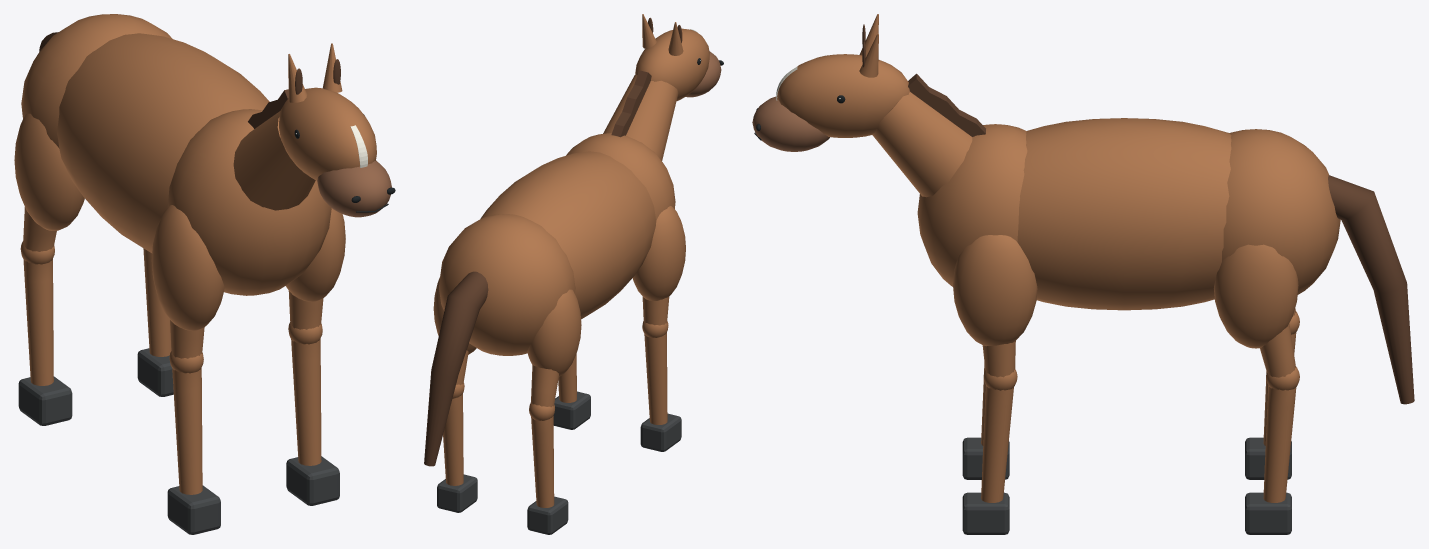
Rendered from animal_horse_chestnut.glb.
The picture shows the model from 3 angles, left to right: view 1: azimuth 30°, elevation 25°; view 2: azimuth 150°, elevation 25°; view 3: azimuth 270°, elevation 25°; orthographic projection. The views are drawn at different scales.
Visible parts, largest first — view 1: ChestnutHorse_Torso, ChestnutHorse_Chest, ChestnutHorse_Shoulder, ChestnutHorse_Head, ChestnutHorse_Rump, ChestnutHorse_Haunch, ChestnutHorse_Neck, ChestnutHorse_Foreleg.001, ChestnutHorse_Foreleg, ChestnutHorse_Hindleg, ChestnutHorse_Muzzle, ChestnutHorse_Shoulder.001 (+11 smaller); view 2: ChestnutHorse_Torso, ChestnutHorse_Rump, ChestnutHorse_Hanging_Hair_Tail, ChestnutHorse_Shoulder, ChestnutHorse_Chest, ChestnutHorse_Head, ChestnutHorse_Haunch, ChestnutHorse_Neck, ChestnutHorse_Hindleg, ChestnutHorse_Foreleg, ChestnutHorse_Hindleg.001, ChestnutHorse_Grounded_Hoof (+8 smaller); view 3: ChestnutHorse_Torso, ChestnutHorse_Rump, ChestnutHorse_Chest, ChestnutHorse_Head, ChestnutHorse_Shoulder.001, ChestnutHorse_Hanging_Hair_Tail, ChestnutHorse_Haunch.001, ChestnutHorse_Neck, ChestnutHorse_Hindleg.001, ChestnutHorse_Foreleg.001, ChestnutHorse_Muzzle, ChestnutHorse_Grounded_Hoof.002 (+4 smaller).
Boxes of the visible parts, x1=… form: ChestnutHorse_Torso: x1=57, y1=33, x2=269, y2=253; ChestnutHorse_Chest: x1=167, y1=109, x2=331, y2=295; ChestnutHorse_Shoulder: x1=151, y1=205, x2=224, y2=331; ChestnutHorse_Head: x1=279, y1=87, x2=376, y2=180; ChestnutHorse_Rump: x1=21, y1=14, x2=172, y2=148; ChestnutHorse_Haunch: x1=14, y1=113, x2=84, y2=230; ChestnutHorse_Neck: x1=233, y1=111, x2=315, y2=210; ChestnutHorse_Foreleg.001: x1=288, y1=290, x2=323, y2=465; ChestnutHorse_Foreleg: x1=170, y1=320, x2=204, y2=494; ChestnutHorse_Hindleg: x1=23, y1=207, x2=56, y2=385; ChestnutHorse_Muzzle: x1=317, y1=160, x2=391, y2=217; ChestnutHorse_Shoulder.001: x1=286, y1=208, x2=345, y2=302; ChestnutHorse_Torso: x1=480, y1=151, x2=656, y2=319; ChestnutHorse_Rump: x1=439, y1=214, x2=575, y2=355; ChestnutHorse_Hanging_Hair_Tail: x1=424, y1=271, x2=488, y2=466; ChestnutHorse_Shoulder: x1=632, y1=206, x2=685, y2=300; ChestnutHorse_Chest: x1=566, y1=133, x2=675, y2=220; ChestnutHorse_Head: x1=635, y1=28, x2=709, y2=100; ChestnutHorse_Haunch: x1=527, y1=289, x2=581, y2=376; ChestnutHorse_Neck: x1=603, y1=75, x2=678, y2=160; ChestnutHorse_Hindleg: x1=531, y1=365, x2=558, y2=507; ChestnutHorse_Foreleg: x1=642, y1=296, x2=669, y2=424; ChestnutHorse_Hindleg.001: x1=443, y1=350, x2=468, y2=485; ChestnutHorse_Grounded_Hoof: x1=640, y1=413, x2=681, y2=451; ChestnutHorse_Torso: x1=1017, y1=118, x2=1231, y2=310; ChestnutHorse_Rump: x1=1222, y1=129, x2=1340, y2=294; ChestnutHorse_Chest: x1=917, y1=124, x2=1027, y2=286; ChestnutHorse_Head: x1=777, y1=54, x2=909, y2=137; ChestnutHorse_Shoulder.001: x1=953, y1=235, x2=1037, y2=346; ChestnutHorse_Hanging_Hair_Tail: x1=1328, y1=175, x2=1414, y2=404; ChestnutHorse_Haunch.001: x1=1214, y1=244, x2=1298, y2=348; ChestnutHorse_Neck: x1=872, y1=92, x2=972, y2=197; ChestnutHorse_Hindleg.001: x1=1260, y1=323, x2=1296, y2=502; ChestnutHorse_Foreleg.001: x1=981, y1=341, x2=1015, y2=502; ChestnutHorse_Muzzle: x1=752, y1=96, x2=829, y2=151; ChestnutHorse_Grounded_Hoof.002: x1=962, y1=492, x2=1009, y2=534.
Size of the model in its own units: 0.694 by 1.86 by 2.34.
